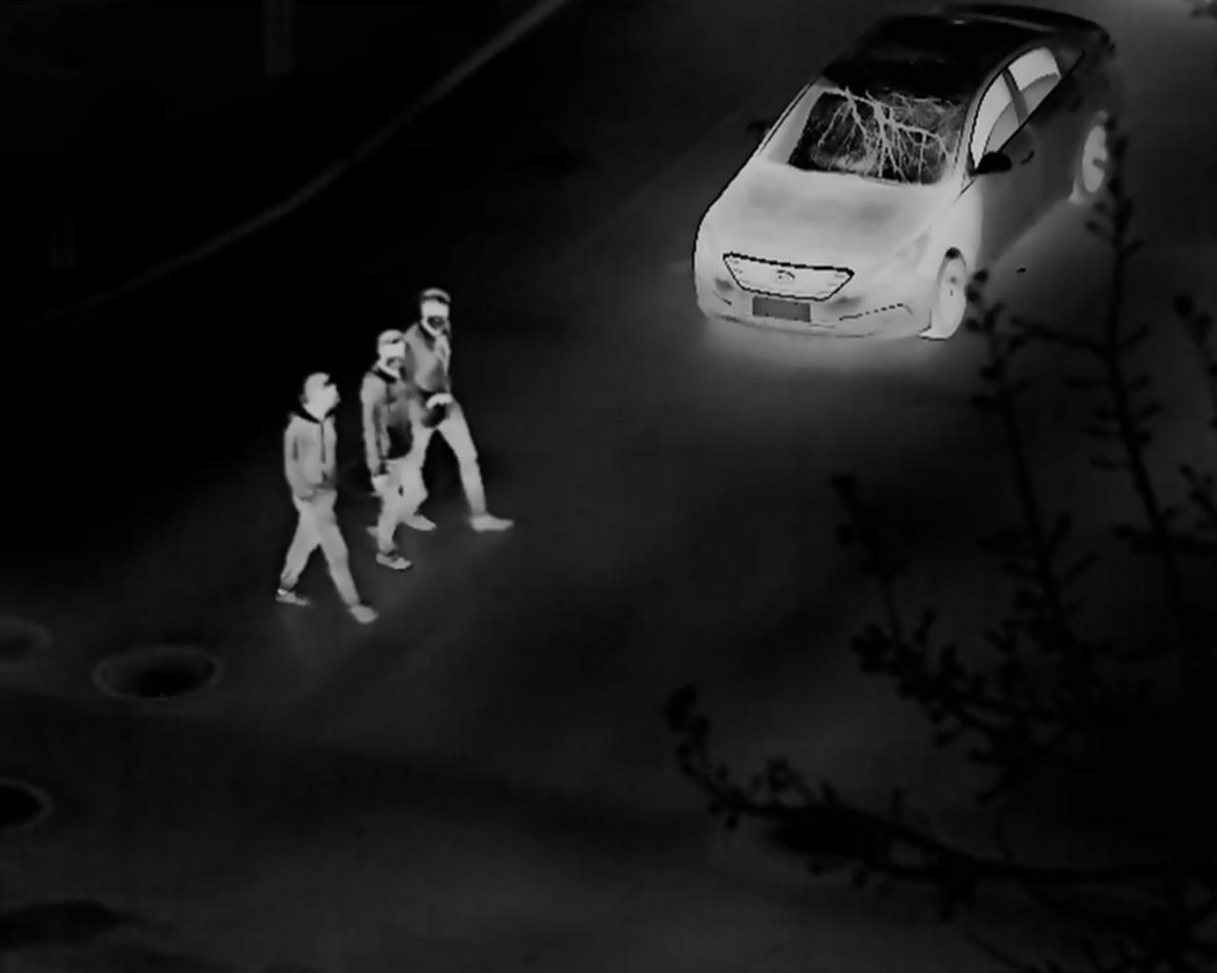person: (270, 372, 382, 629), (398, 285, 513, 532), (360, 329, 413, 570)
